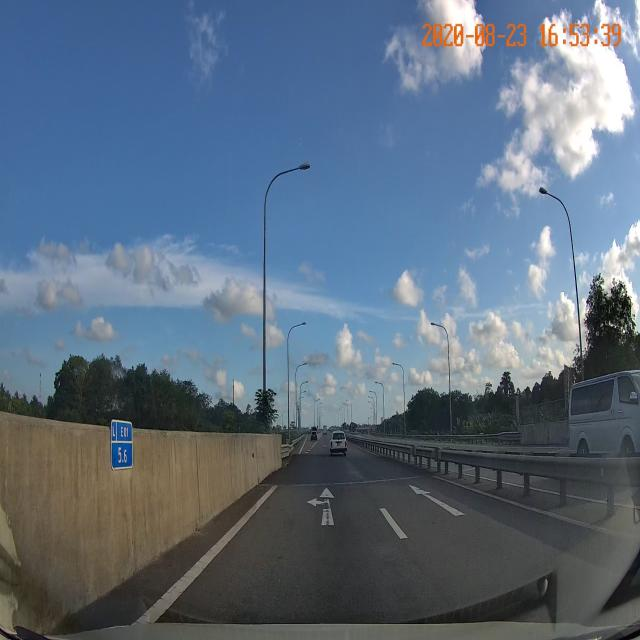forward_lft: (220, 480, 411, 540)
